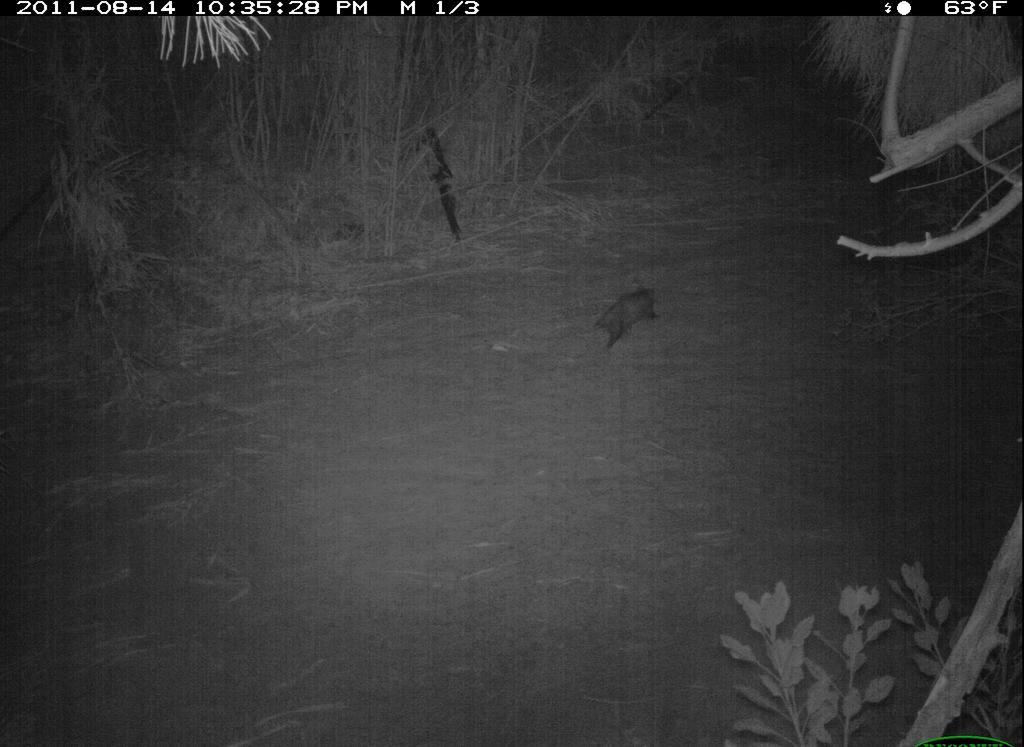opossum: (570, 276, 667, 360)
